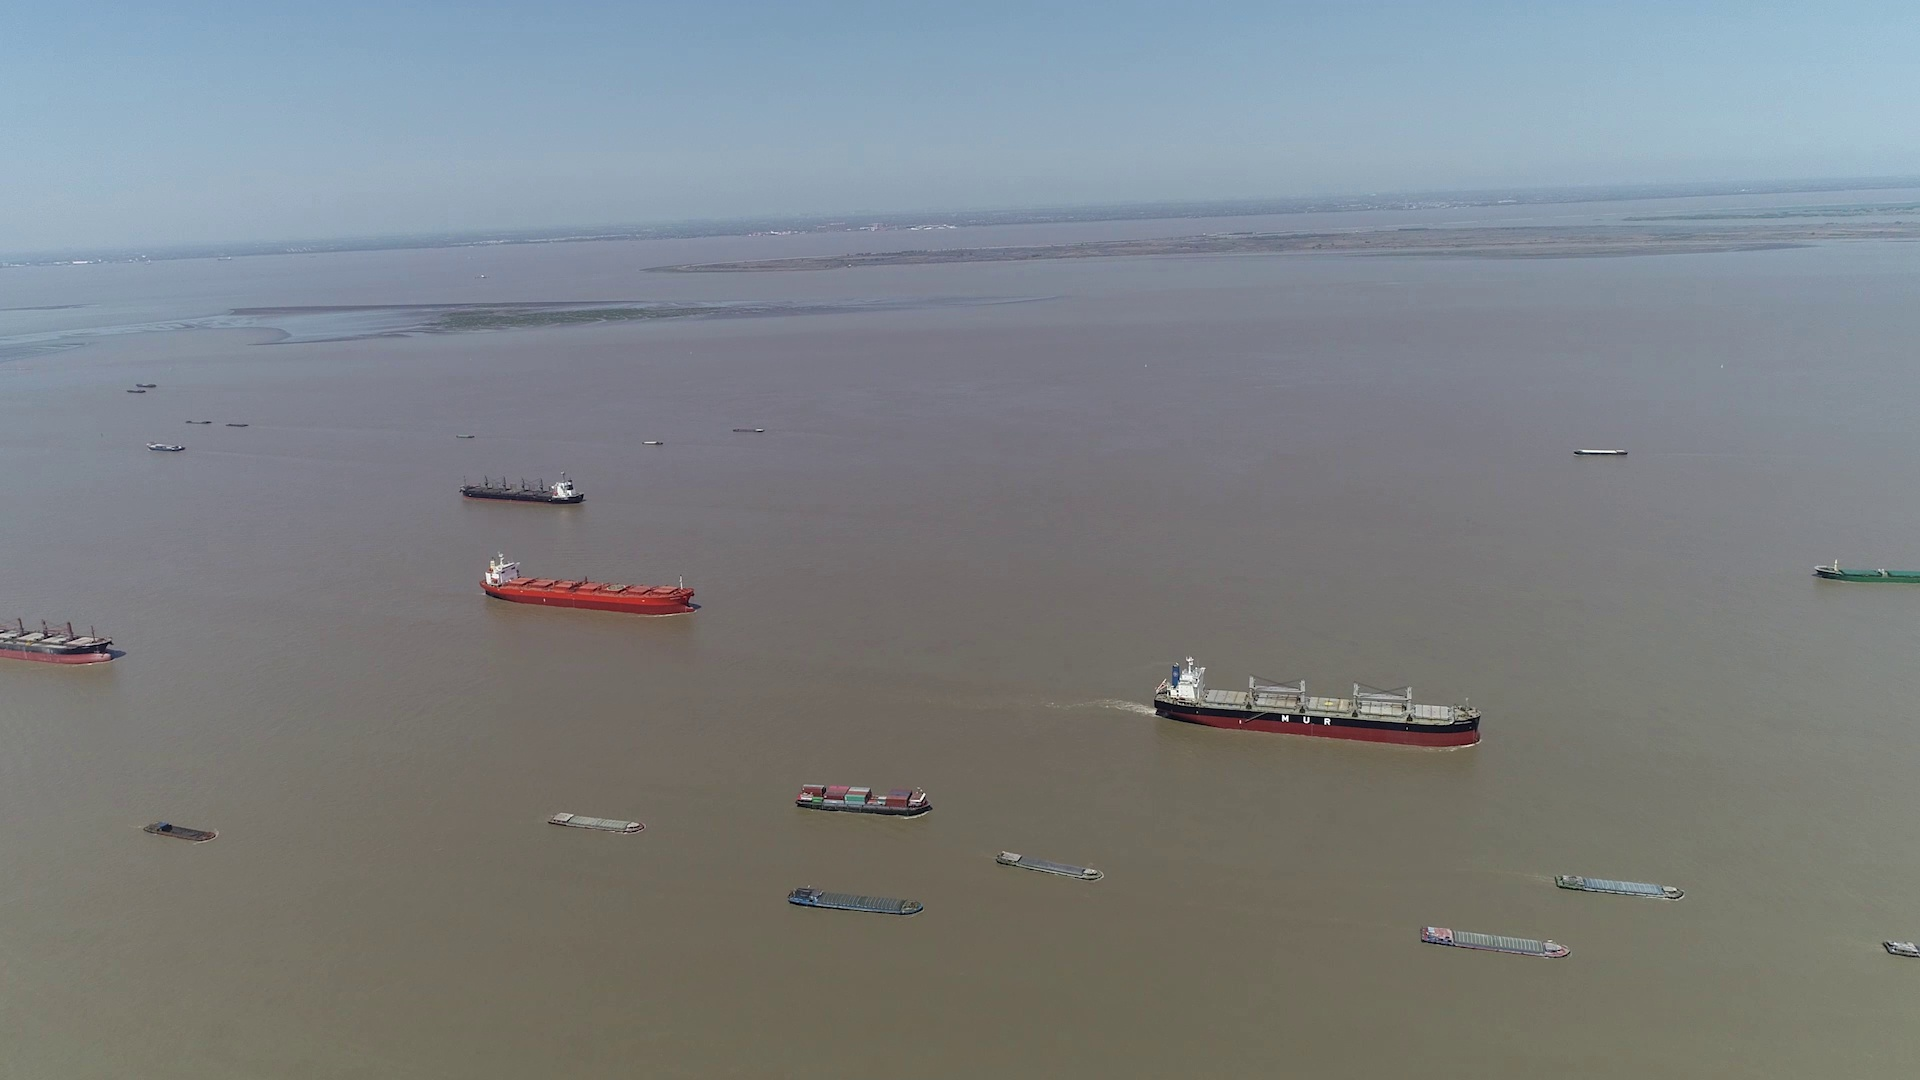ship: (1155, 658, 1482, 746), (485, 553, 698, 616), (1, 601, 117, 665), (1422, 926, 1569, 959), (794, 785, 934, 818), (785, 884, 923, 916), (459, 473, 584, 504), (996, 849, 1106, 884), (1553, 872, 1685, 899), (547, 810, 645, 833), (1815, 563, 1920, 584), (145, 820, 219, 840), (1880, 938, 1920, 963), (1576, 447, 1627, 456), (150, 442, 189, 454)
